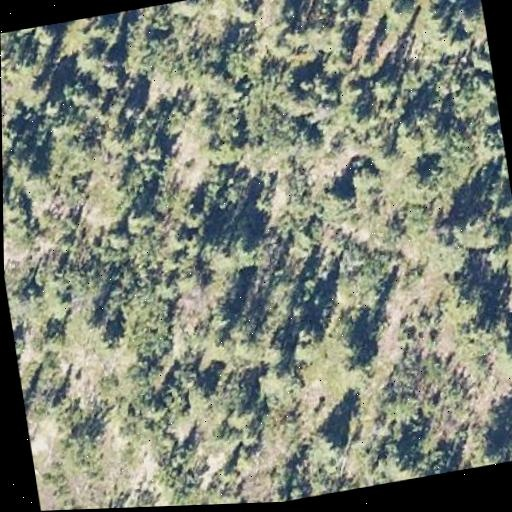tree-top: (189, 78, 296, 174), (38, 119, 90, 191), (425, 0, 489, 57), (435, 273, 494, 332), (452, 313, 510, 373), (445, 205, 504, 258), (325, 313, 372, 378), (56, 421, 102, 470), (363, 434, 406, 484), (83, 48, 127, 95), (4, 141, 45, 186), (128, 384, 169, 429), (91, 122, 136, 163), (206, 0, 257, 36), (387, 115, 425, 162), (166, 352, 202, 401), (175, 254, 215, 298), (306, 423, 346, 466), (116, 199, 159, 239), (220, 394, 261, 434), (229, 228, 271, 267), (288, 316, 326, 359), (318, 179, 358, 218), (71, 307, 111, 346), (415, 113, 454, 152), (347, 160, 385, 197), (333, 75, 372, 111), (288, 220, 327, 256), (261, 20, 297, 58), (189, 58, 225, 95), (400, 160, 435, 198), (465, 441, 512, 469), (263, 474, 306, 503), (380, 0, 418, 32), (368, 69, 402, 103), (22, 74, 54, 108), (176, 199, 207, 232), (2, 111, 28, 150), (206, 303, 236, 336), (102, 226, 132, 253), (500, 257, 512, 318), (31, 24, 59, 48), (3, 173, 9, 204), (362, 0, 397, 1)
